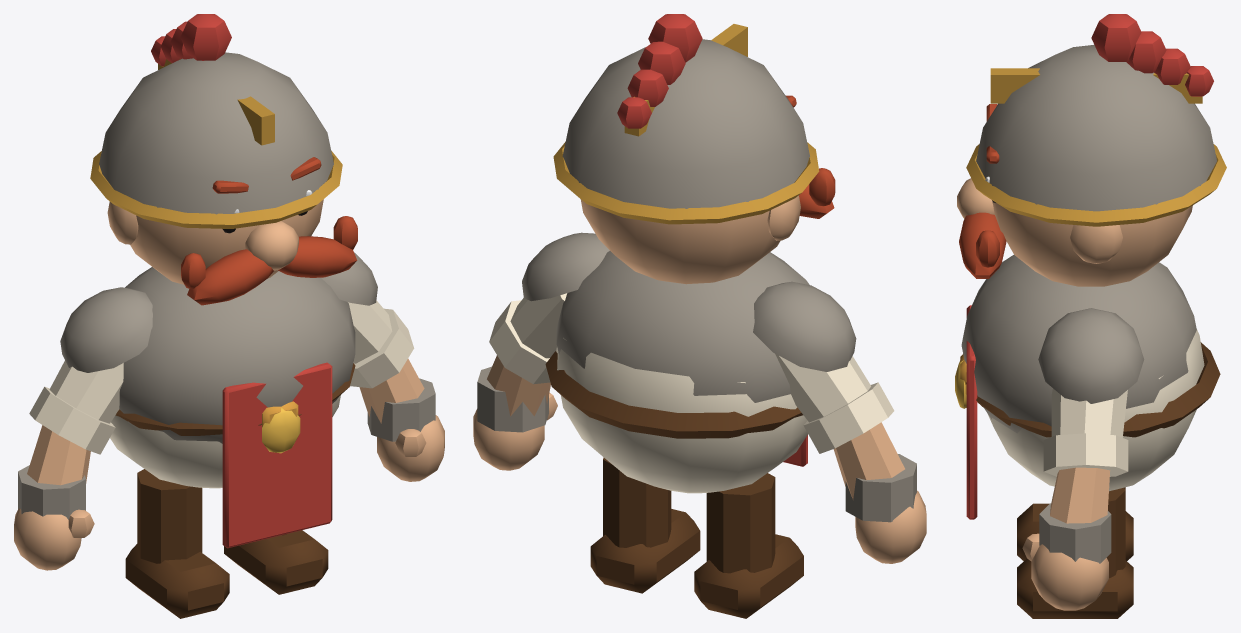
File: CH_Costume_Barlo_Sovalye.fbx
The picture shows the model from 3 angles, left to right: view 1: azimuth 30°, elevation 25°; view 2: azimuth 150°, elevation 25°; view 3: azimuth 270°, elevation 25°; orthographic projection. The views are drawn at different scales.
Parts seen in each view (by area): view 1: CH_Costume_Barlo_Sovalye; view 2: CH_Costume_Barlo_Sovalye; view 3: CH_Costume_Barlo_Sovalye.
Boxes of the visible parts, x1,y1,x2,y2 form: CH_Costume_Barlo_Sovalye: (14, 14, 444, 618); CH_Costume_Barlo_Sovalye: (473, 14, 926, 618); CH_Costume_Barlo_Sovalye: (955, 14, 1226, 618).
Bounding box in the file's own units: 0.9352 × 1.19 × 0.5131.
